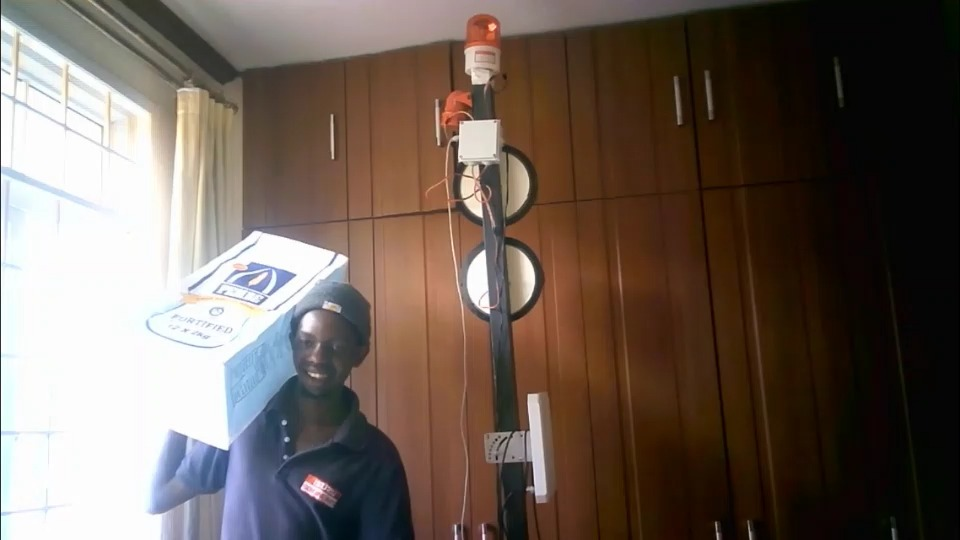wheat_flour_blue_label: (147, 231, 348, 449)
